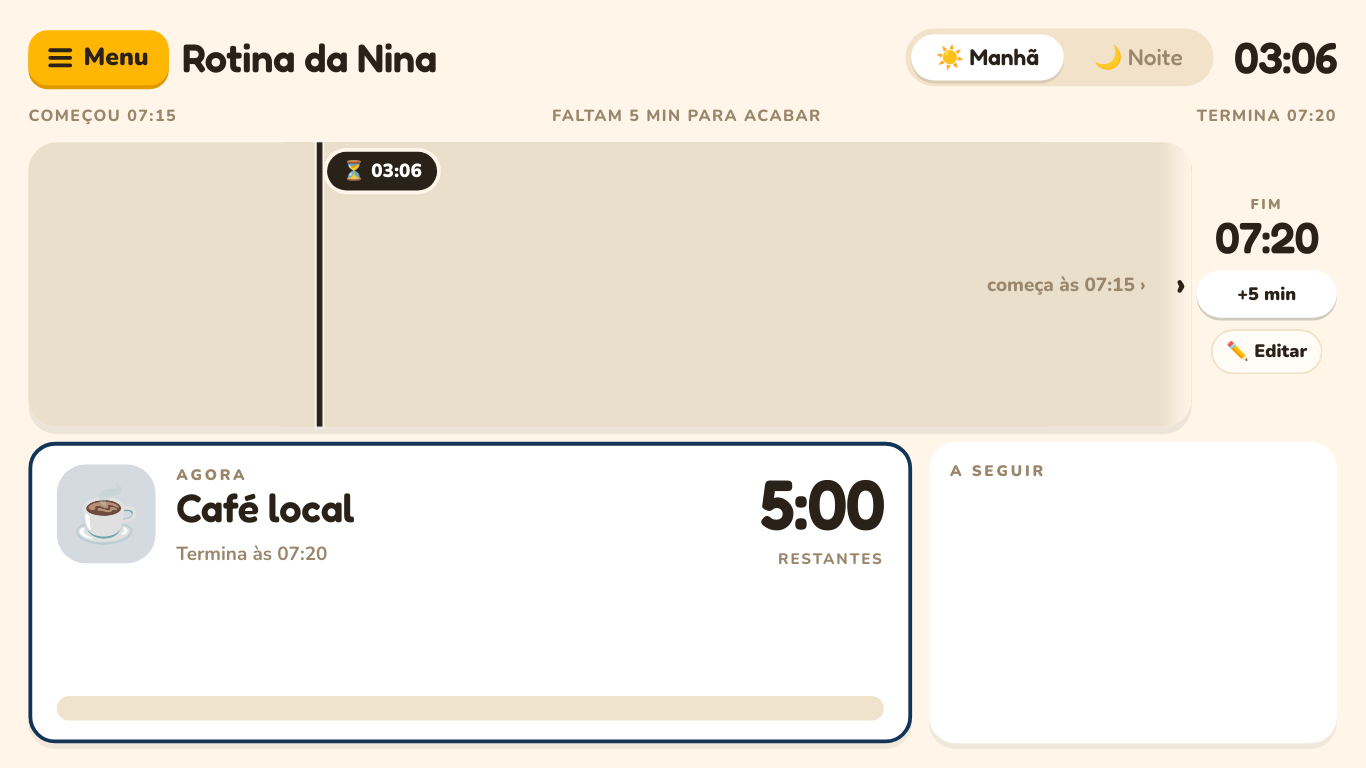
pathname /0720 uses defaults despite custom storage
Click the button with aria-label "Menu dos pais".
click(99, 57)  # box [29,30,169,85]
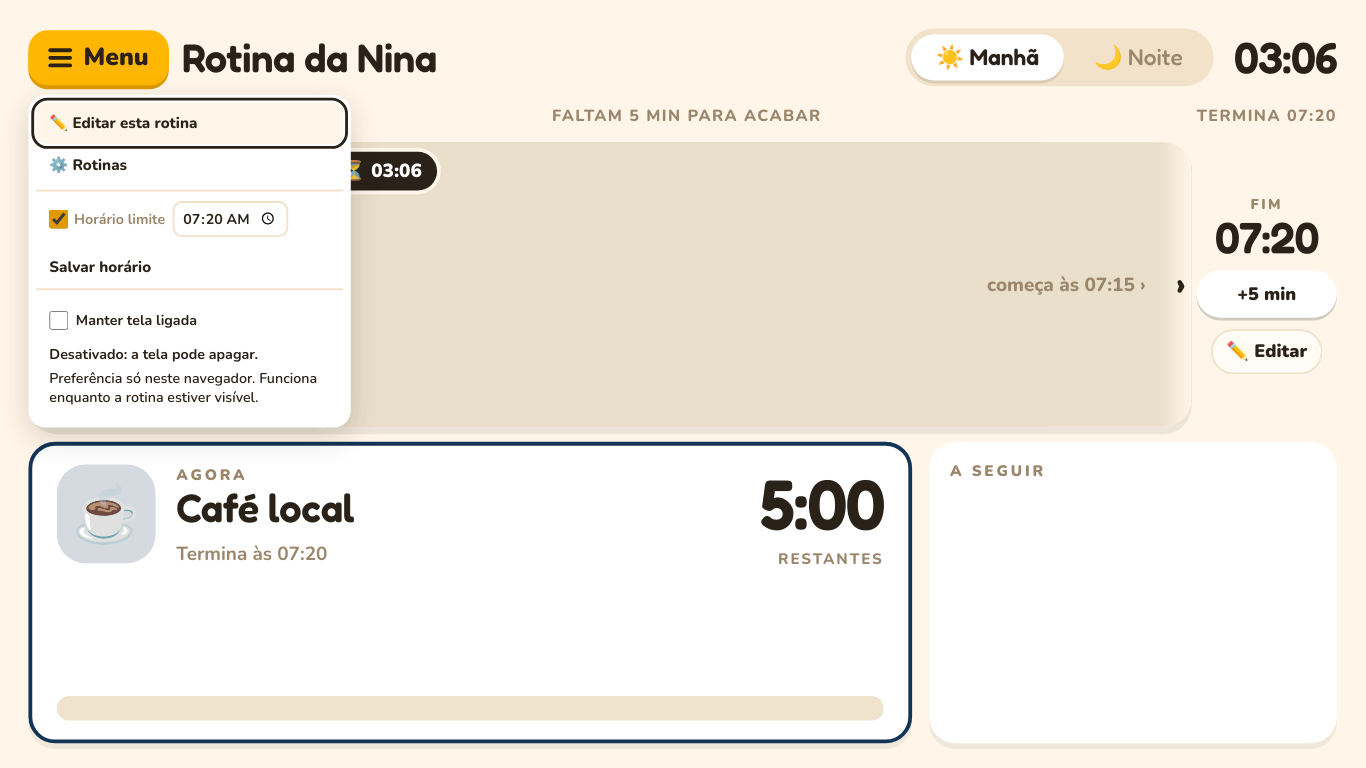
expect the time field showing "07:20" is shown: met, box [173,200,288,236]
